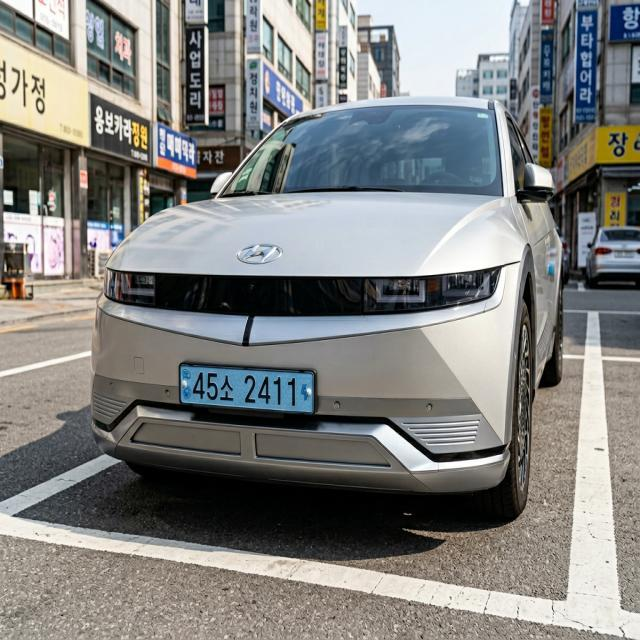car: (158, 354, 345, 430)
carev: (299, 365, 319, 421), (179, 362, 192, 410)
